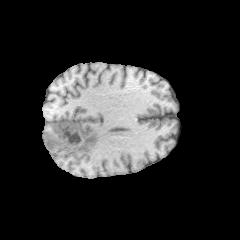glioma: (46, 120, 98, 154)
